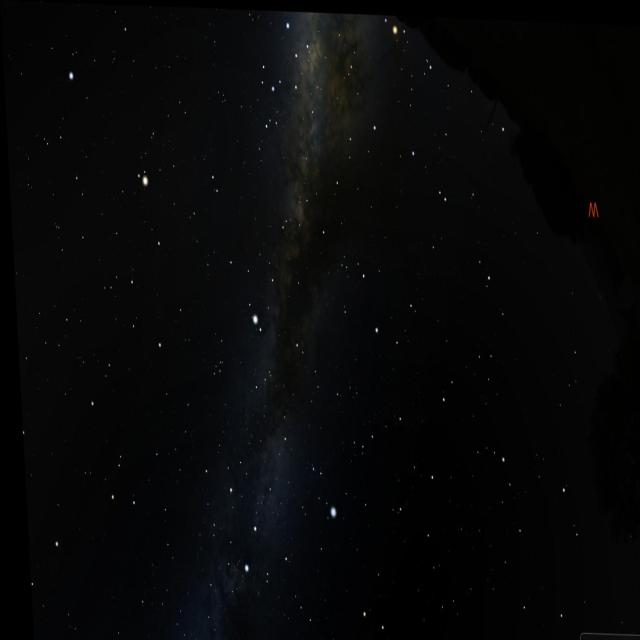aquila: (222, 201, 304, 331)
cygnus: (216, 401, 294, 582)
lyra: (296, 446, 337, 530)
sagittarius: (256, 8, 324, 126)
